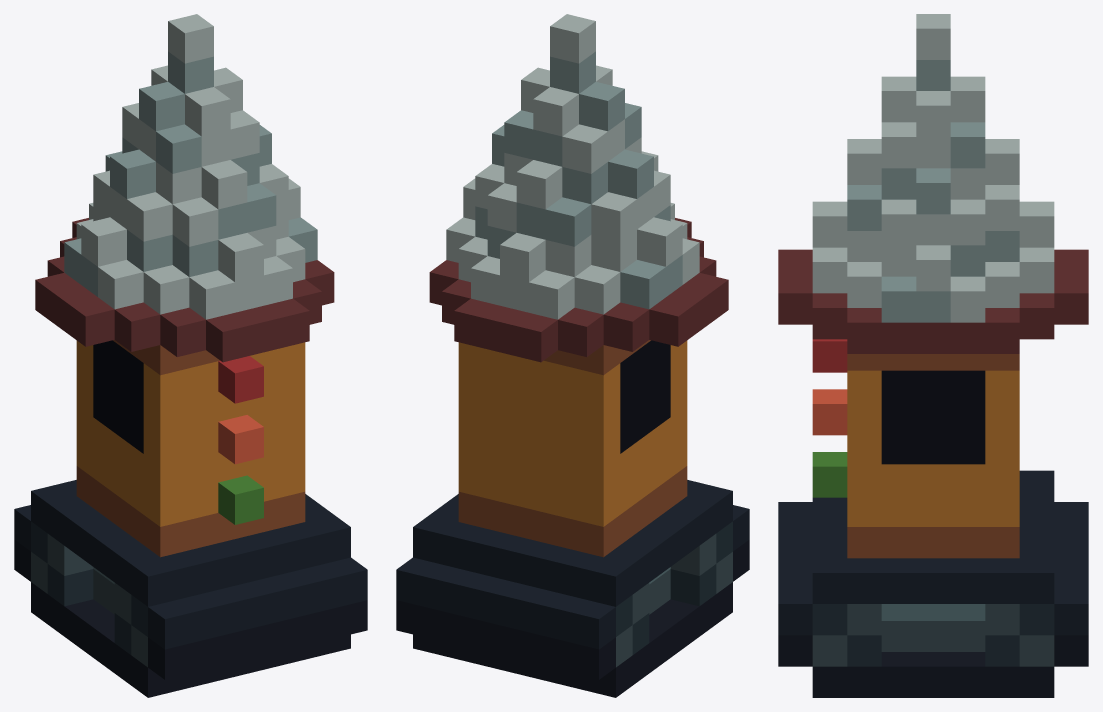
Rendered from TransportDrill.obj.
3 renders of one model, left to right at view 1: azimuth 30°, elevation 25°; view 2: azimuth 150°, elevation 25°; view 3: azimuth 270°, elevation 25°, orthographic. The views are drawn at different scales.
Size of the model in its own units: 0.8 by 2 by 0.9.
Materials: 1 (1 with a texture image).
